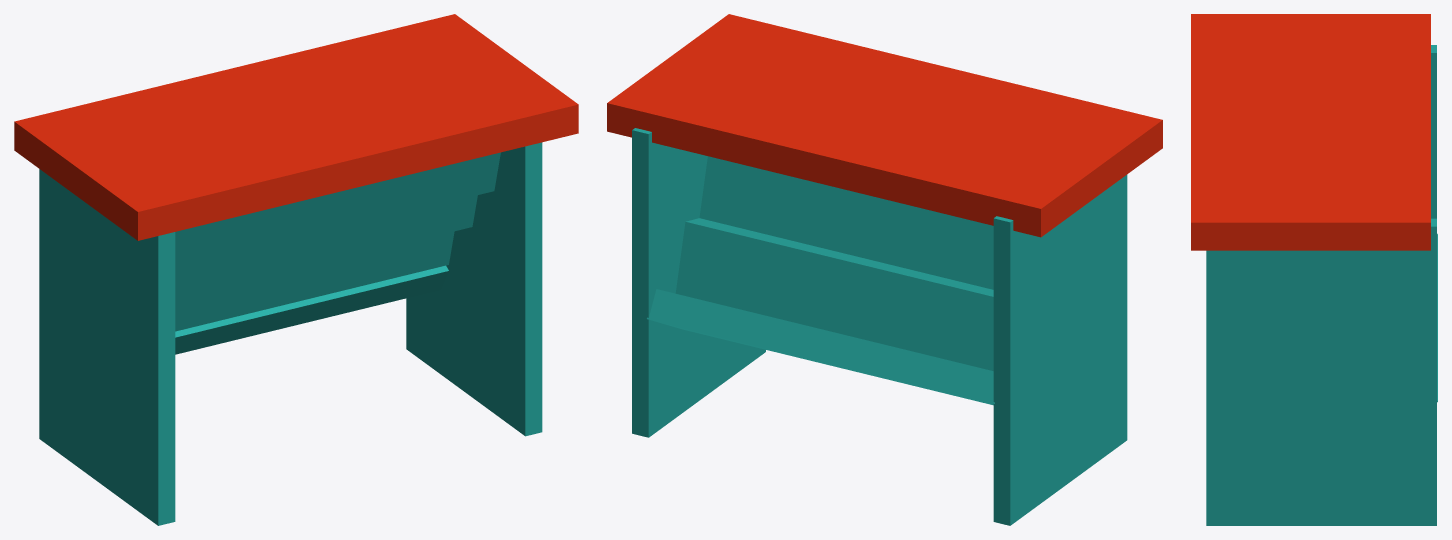
File: book stall.fbx
3 views of the same model, side by side, from view 1: azimuth 30°, elevation 25°; view 2: azimuth 150°, elevation 25°; view 3: azimuth 270°, elevation 25° (orthographic). The views are drawn at different scales.
Parts seen in each view (by area): view 1: book_stall; view 2: book_stall; view 3: book_stall.
Part boxes in pixels (bbox=[...]): book_stall: bbox=[14, 14, 578, 525]; book_stall: bbox=[607, 14, 1162, 525]; book_stall: bbox=[1191, 14, 1437, 525].
Bounding box in the file's own units: 300 × 212 × 150.
